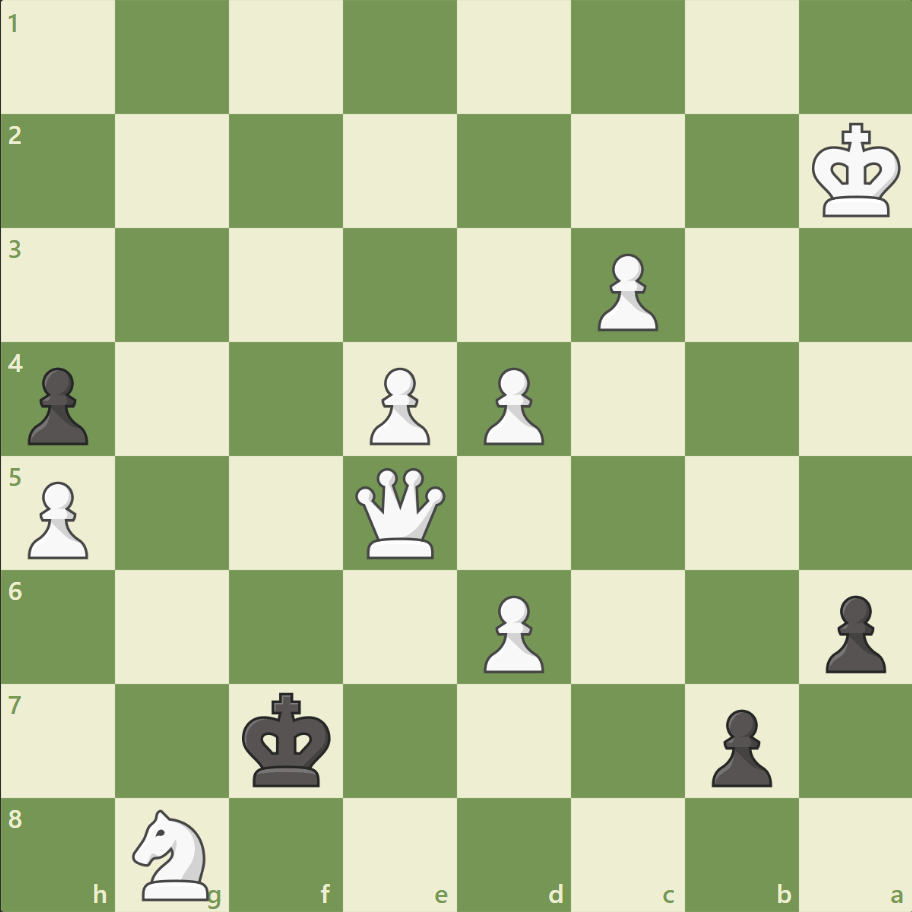K: (806, 117, 906, 225)
N: (124, 802, 222, 904)
P: (474, 586, 549, 677), (20, 473, 95, 564), (474, 359, 549, 450), (361, 359, 435, 450), (588, 246, 662, 337)
Q: (351, 463, 450, 562)
k: (238, 685, 338, 793)
p: (701, 700, 776, 791), (20, 359, 95, 450), (815, 586, 889, 677)
